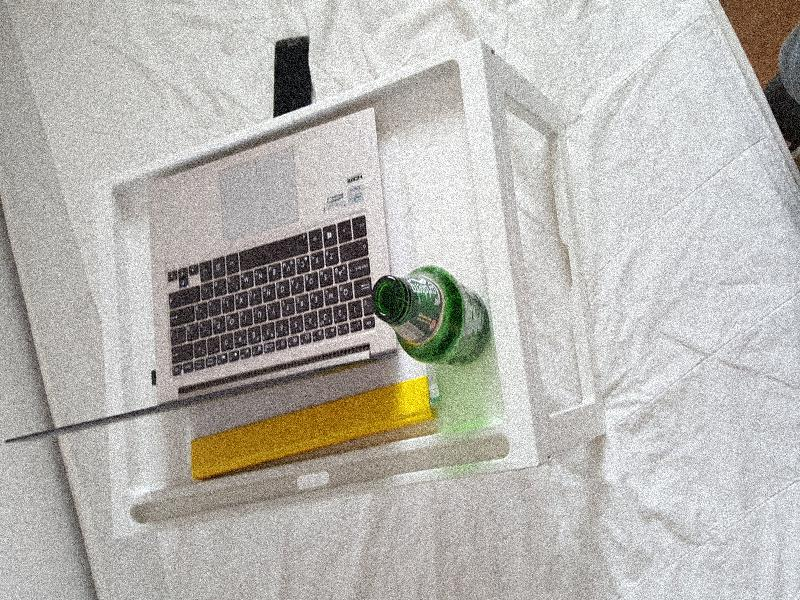Beer: (373, 265, 491, 365)
